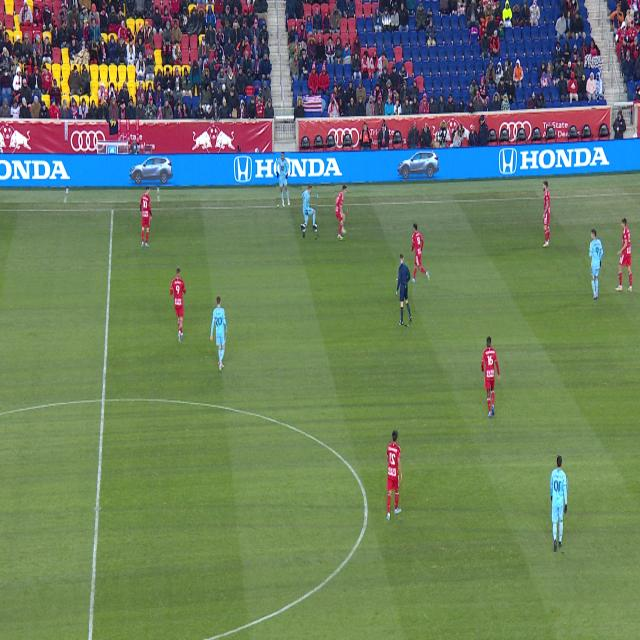football: (302, 224, 306, 232)
player: (551, 456, 567, 552), (482, 337, 500, 417), (387, 430, 402, 520), (210, 297, 227, 366), (616, 219, 632, 291), (170, 267, 185, 342), (410, 224, 429, 283), (589, 229, 603, 298), (140, 187, 152, 249), (303, 187, 317, 238), (277, 152, 290, 205), (336, 186, 347, 239), (542, 181, 550, 247)
referee: (396, 255, 412, 325)
